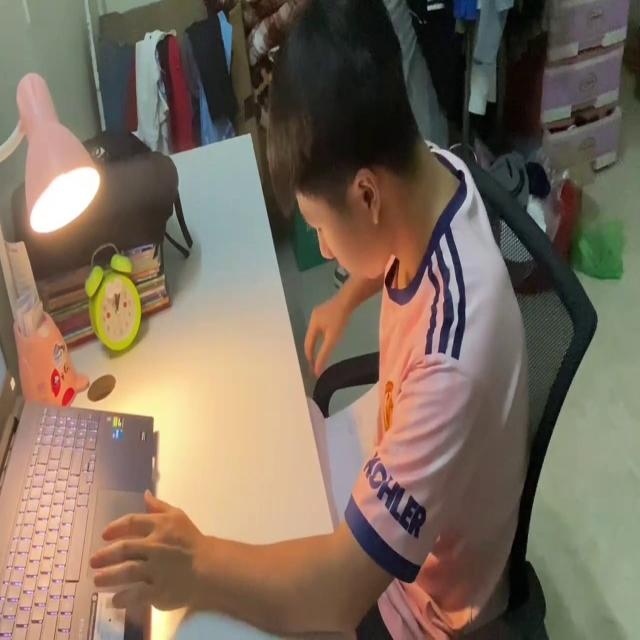book: (302, 384, 380, 526)
laptop: (1, 341, 158, 640)
student: (89, 6, 531, 640)
